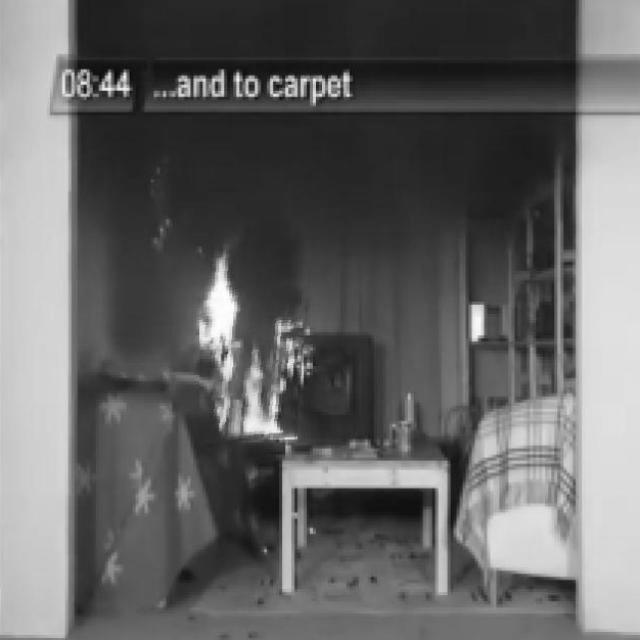smoke: (199, 238, 312, 444)
